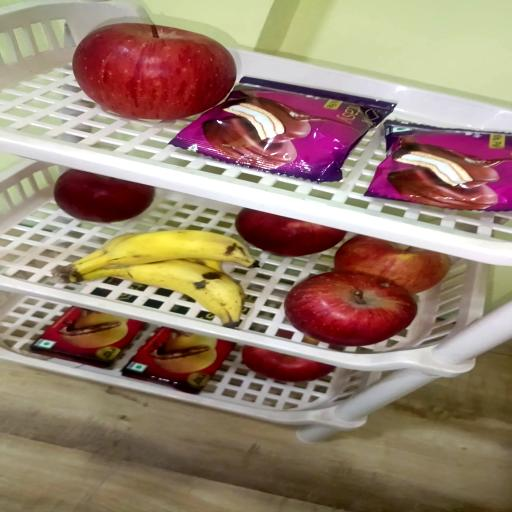Apple: (71, 23, 235, 121), (284, 272, 418, 348), (334, 236, 450, 296), (53, 172, 155, 225), (237, 211, 348, 258), (243, 346, 337, 382)
Choco Fills: (125, 328, 237, 394), (30, 307, 145, 369)
Choco Pie: (166, 76, 392, 181), (365, 120, 510, 210)
